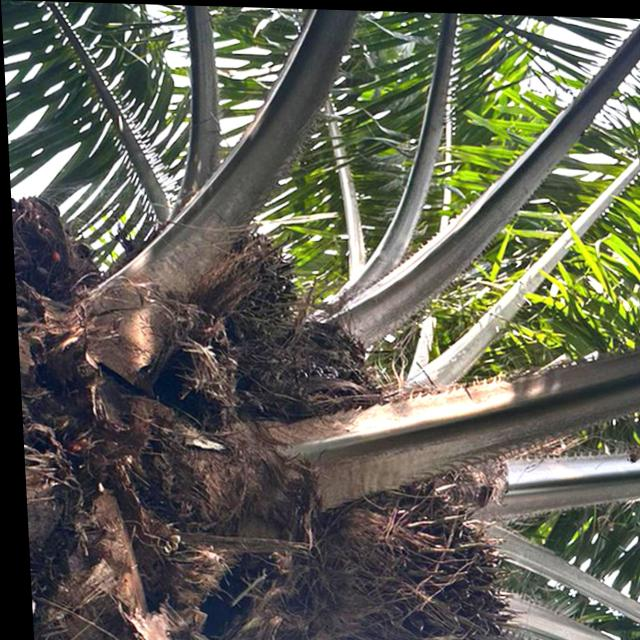unripe: (160, 217, 304, 390)
